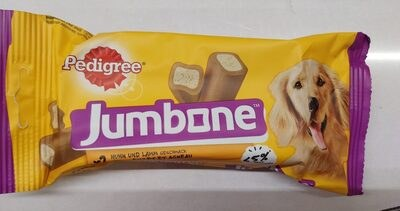Pedigree Jumbone: (20, 11, 380, 200)
